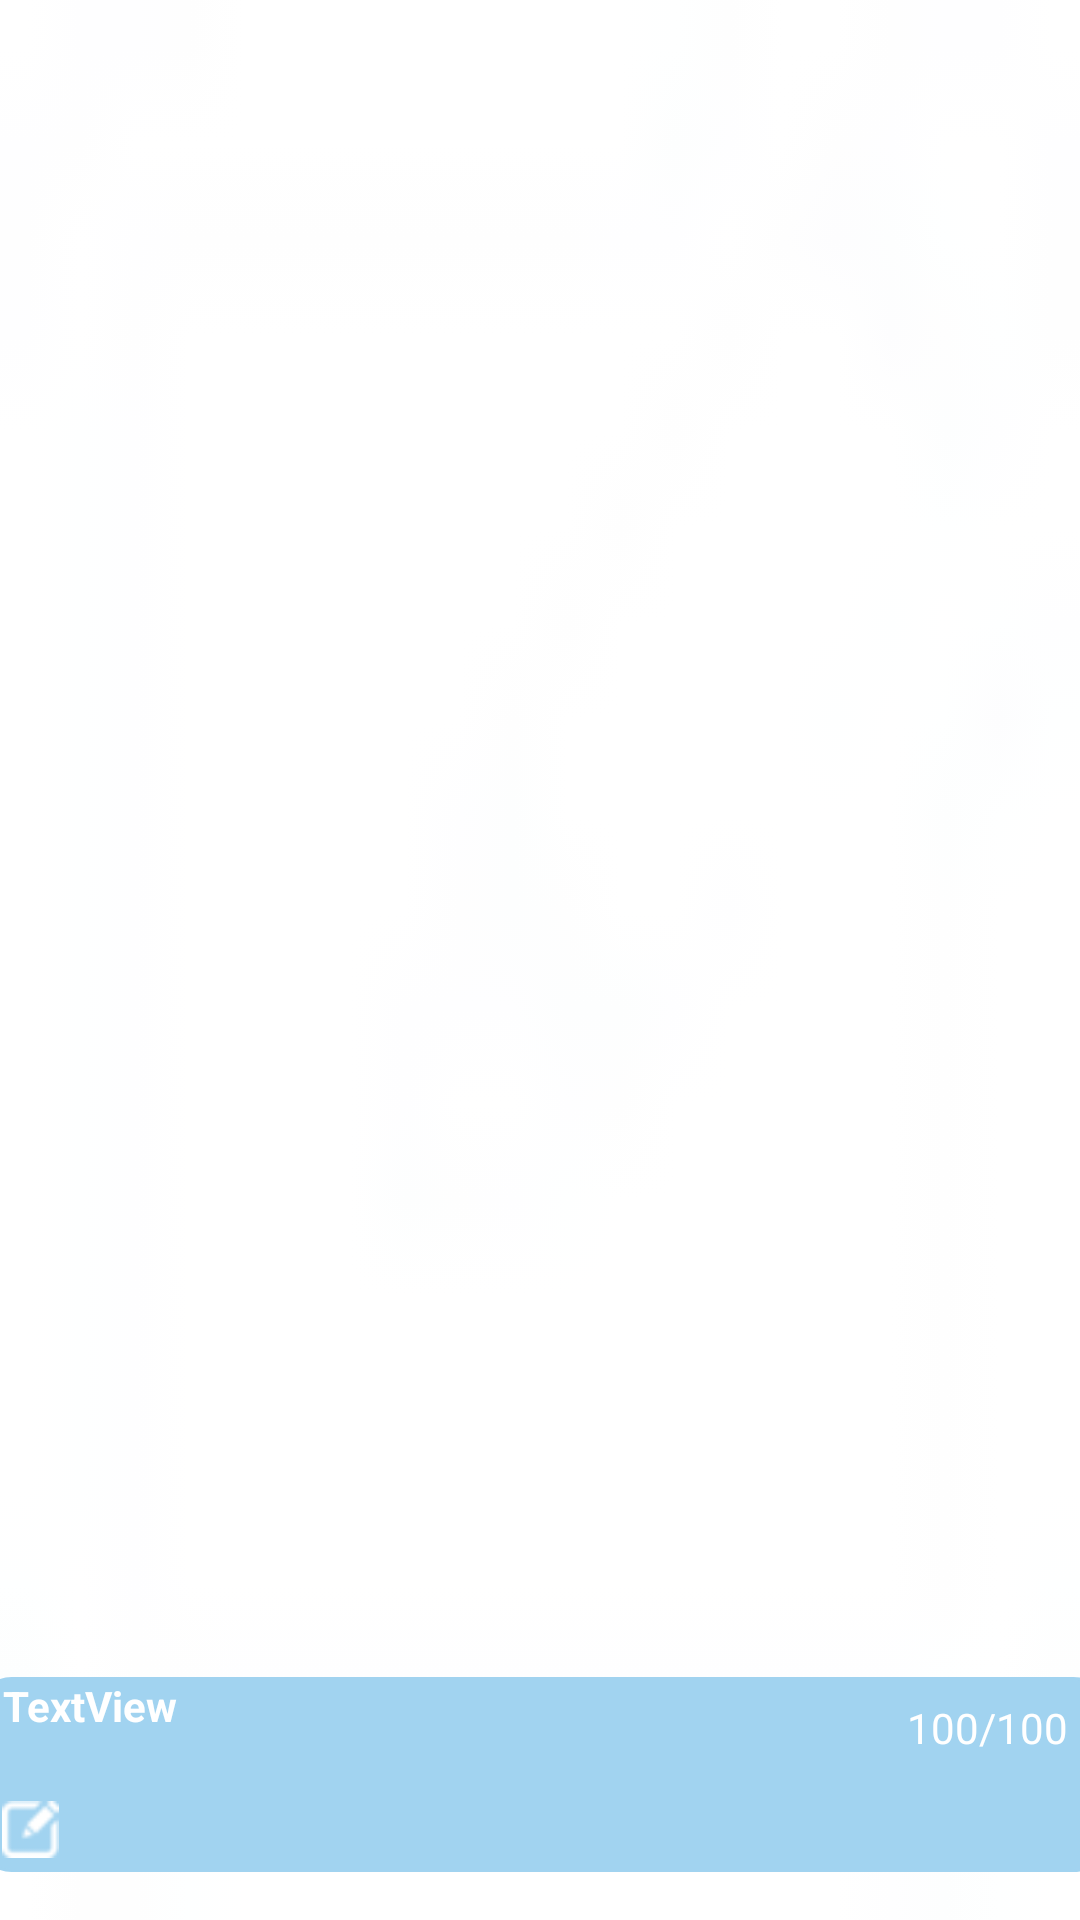

Icons on this 1080w x 1920h Android screen, each with its box as (x1, y1, x2, y2):
change: (2, 1801, 59, 1858)
